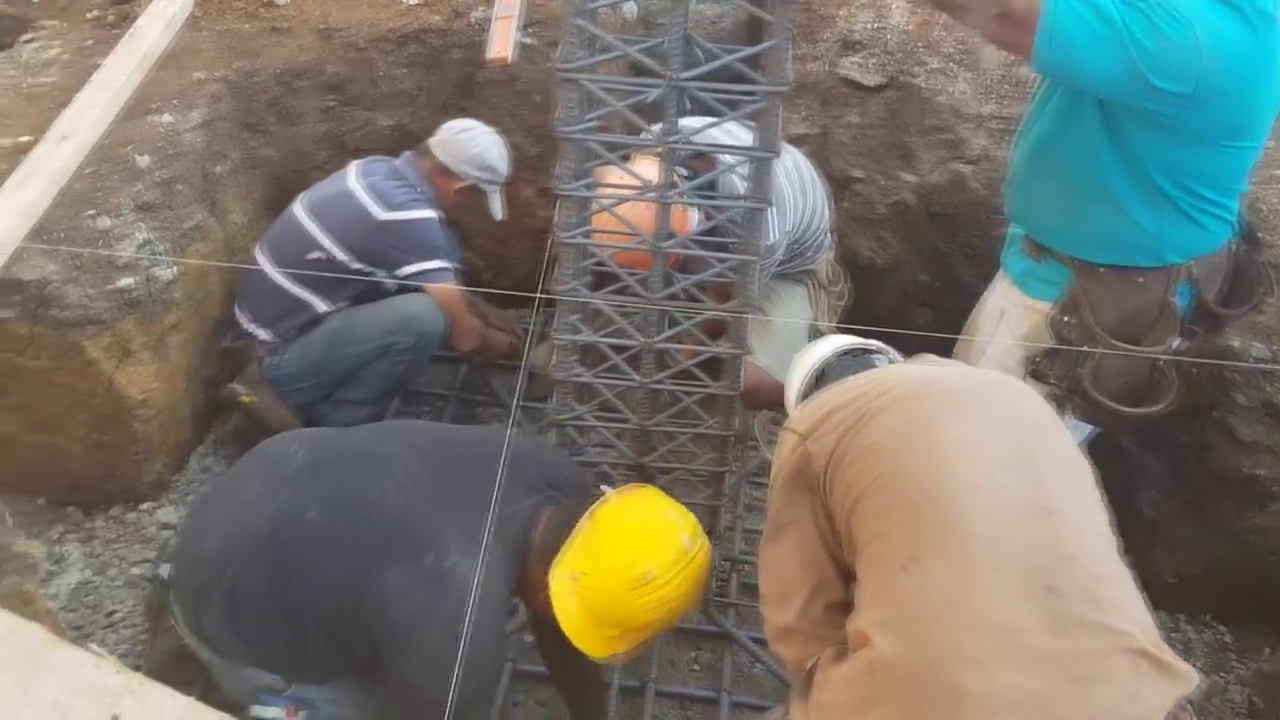helmet: (550, 481, 721, 657), (783, 340, 898, 437), (600, 161, 700, 271)
helmet-off: (410, 114, 510, 227)
helmet-on: (492, 467, 722, 669), (597, 131, 722, 280), (774, 335, 914, 446)
person: (730, 318, 1237, 720), (152, 342, 684, 720), (945, 0, 1272, 428), (229, 91, 512, 444), (600, 103, 843, 417)
